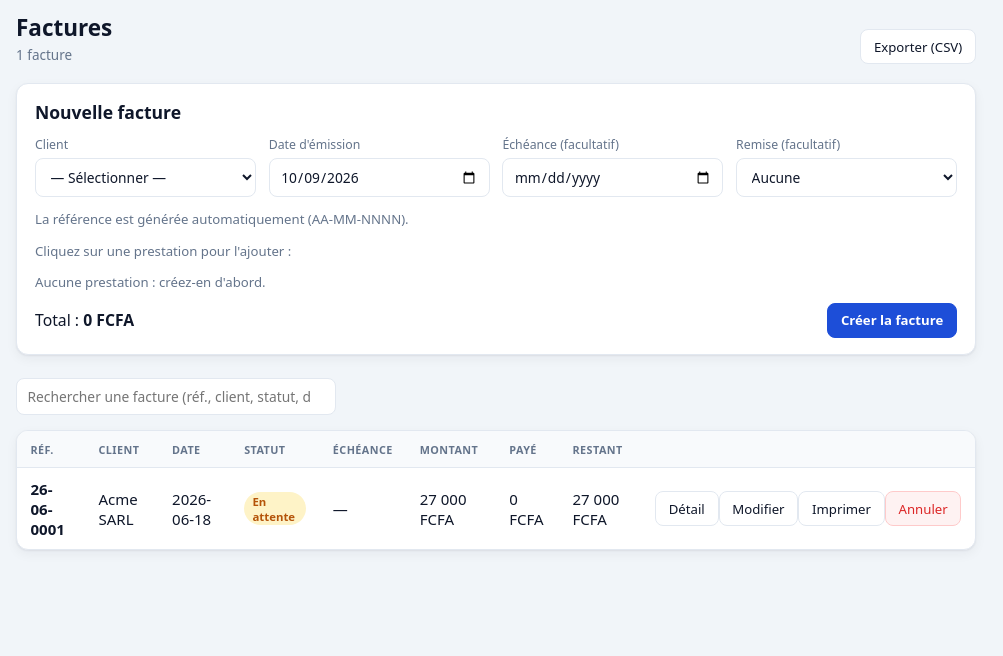
Test case: NotesPage — modification › charge la facture dans le formulaire et permet d'abandonner
This screenshot has width=1003, height=656.
Click the button "Modifier" at (758, 509), box [718,491,798,526]
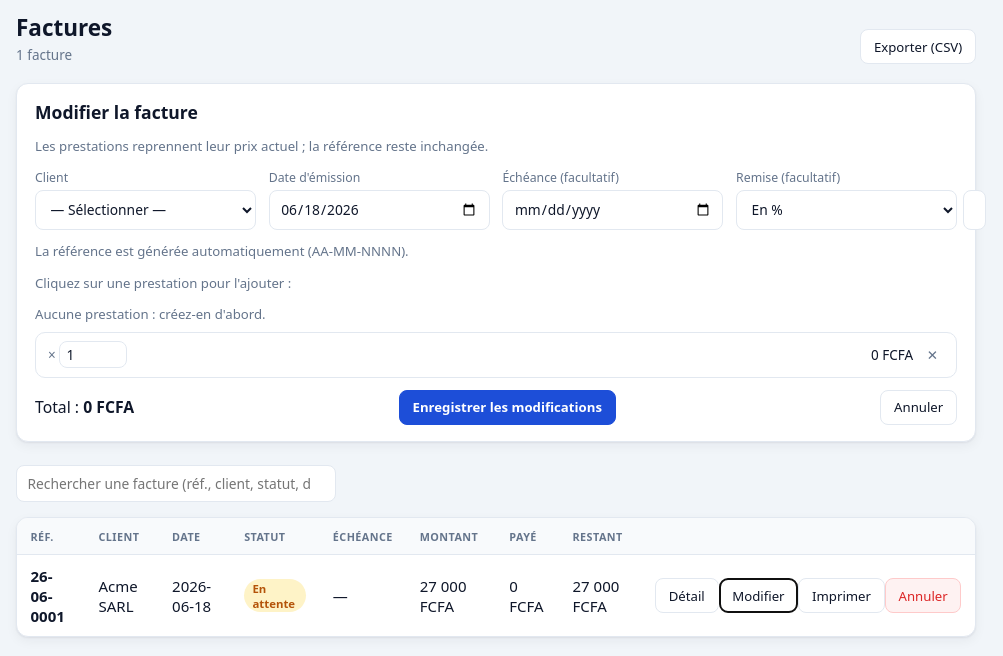
Result: the heading "Modifier la facture" is shown at [35,100,198,124]
Result: the date field showing "2026-06-18" is shown at [269,190,490,230]
Click the button "Annuler" in the row of "Total :" at (919, 407), box [880,390,957,425]
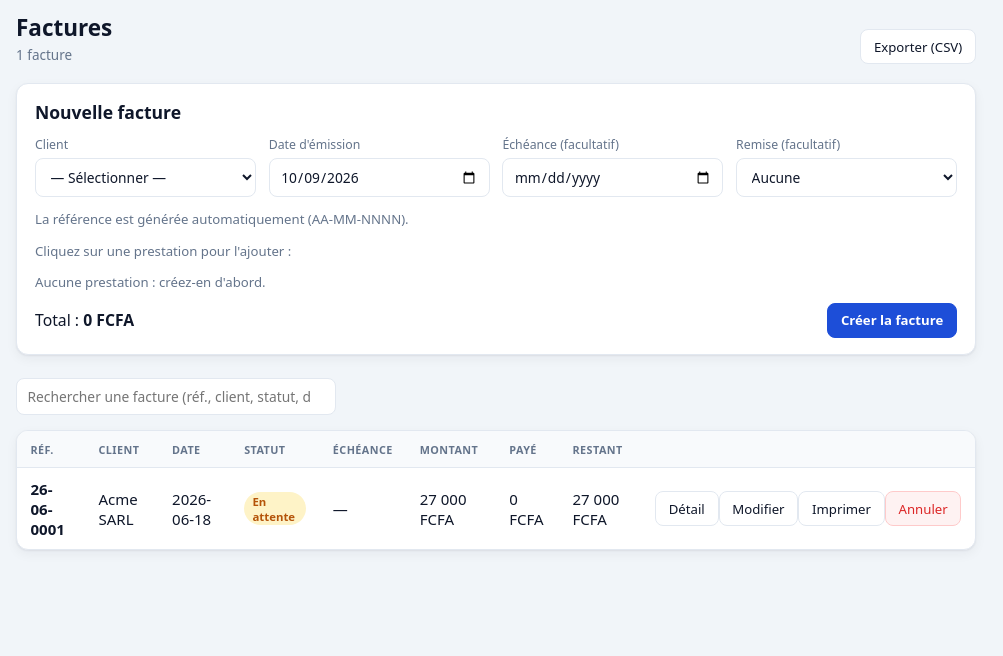
Result: the heading "Nouvelle facture" is shown at [35,100,181,124]
